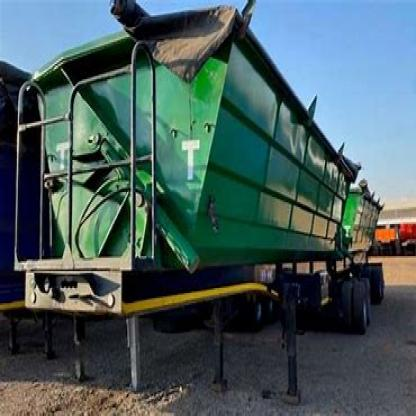dump_truck: (25, 13, 399, 398)
